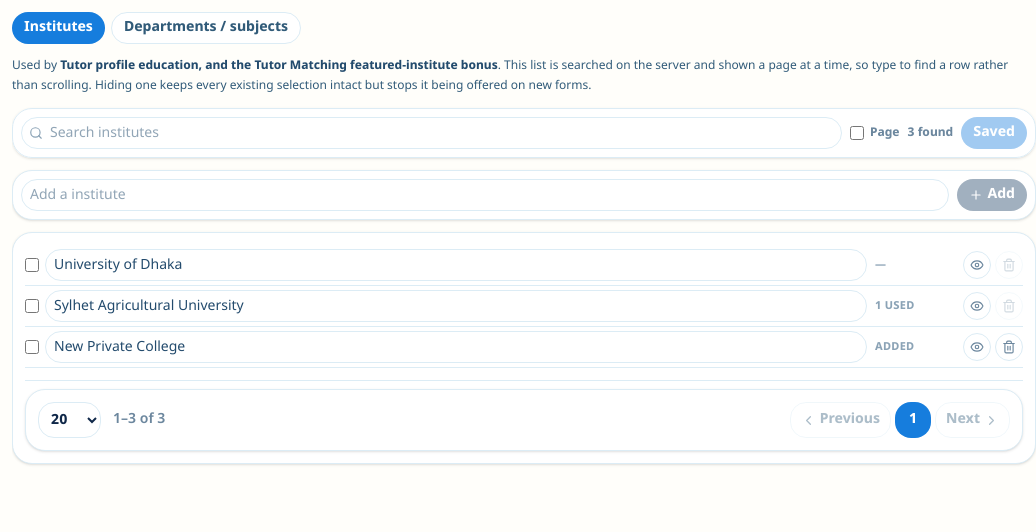
large catalog manager › surfaces a rejected save instead of pretending it worked
Replace the text in the field named "New Private College" next to "Added" with "University of Dhaka". click: (456, 347)
box: [45, 331, 867, 363]
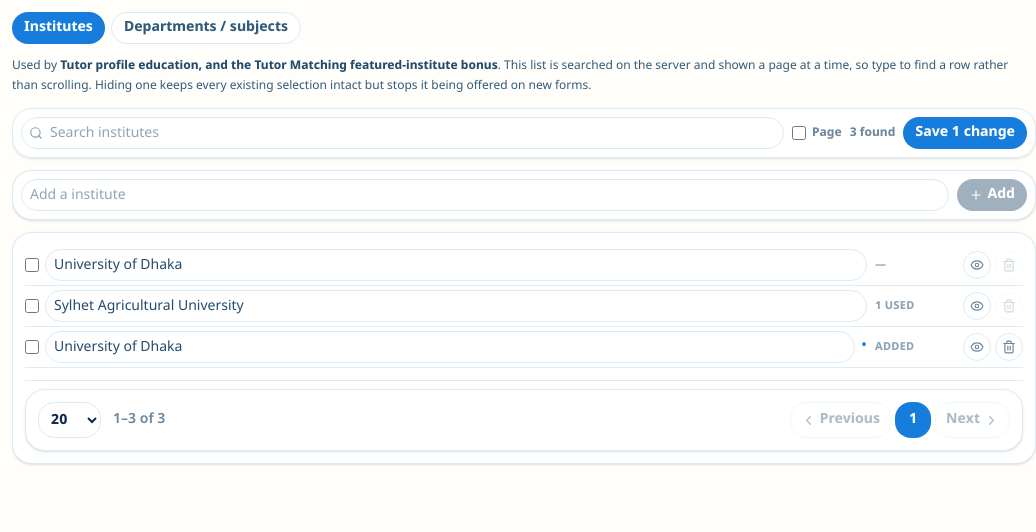
Click the button "Save 1 change". click: (965, 133)
box: [903, 117, 1027, 149]
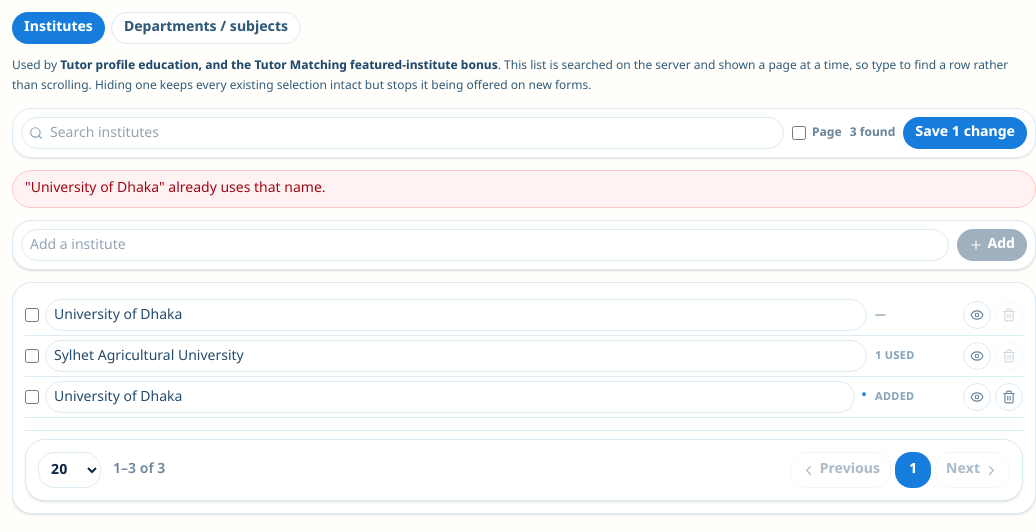
Now the message shows "already uses that name", box [25, 179, 326, 198]
